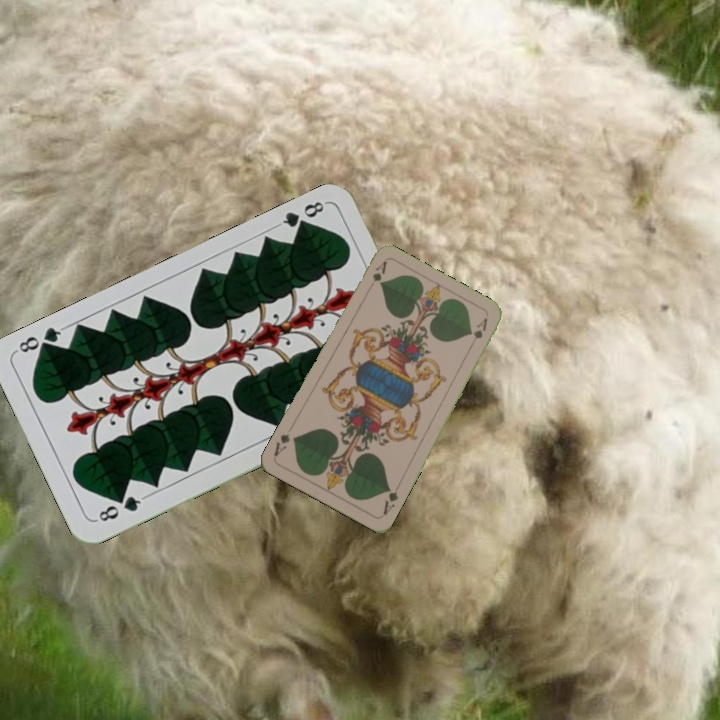G8: (273, 197, 327, 235), (92, 492, 147, 524)
GA: (363, 257, 389, 294), (379, 480, 402, 517)
